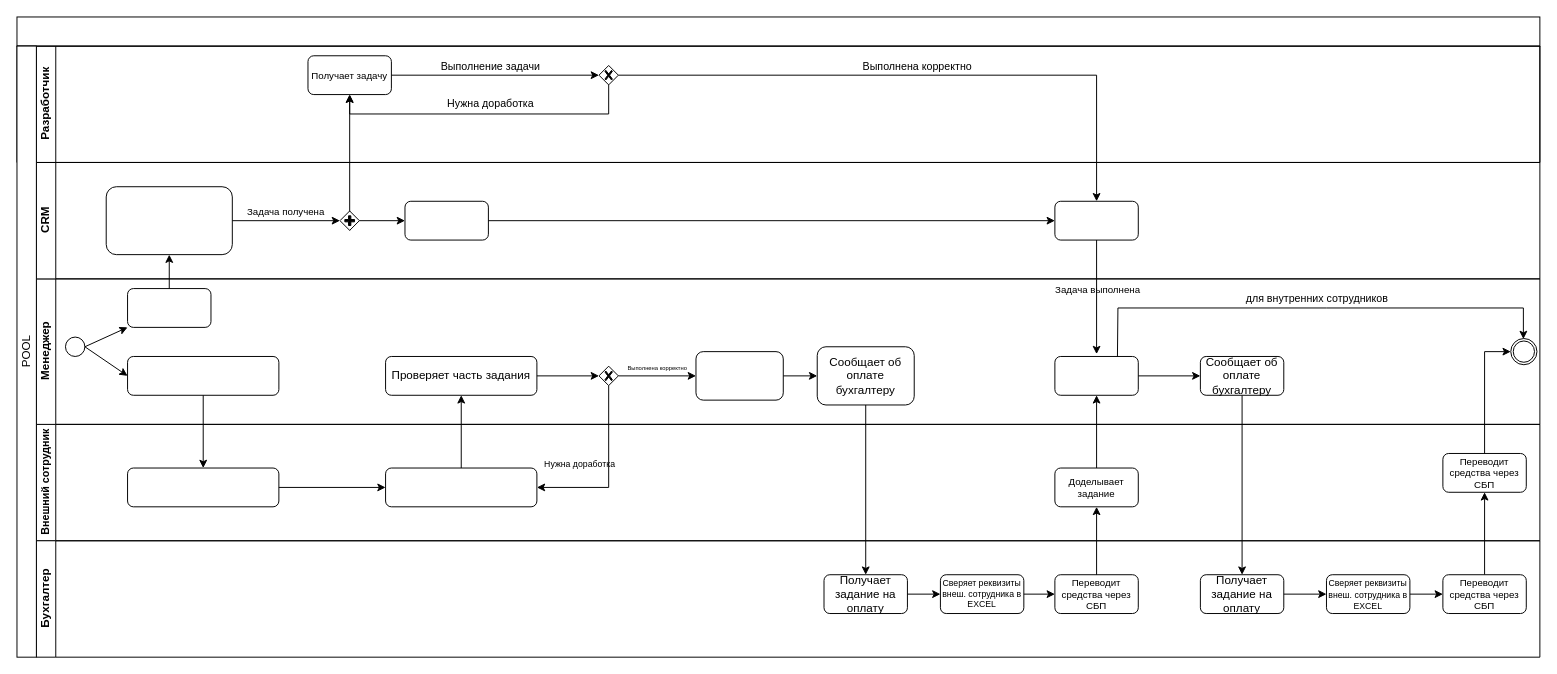
This 1557x674 diagram has some shape labels left out. Here are the shapes that lost their labels. From the top down, the centre of each, then its label:
point 778,31: AS-IS
point 168,220: ожидает подтверждения задачи разработчиком/бухгалтерам
point 446,220: обновляет статус задачи
point 1096,220: Отмечает выполнение задачи
point 169,307: создает задачу в CRM
point 203,375: создает задачу внешнего сотрудника
point 739,375: Утверждает корректное направление задания
point 1096,375: Подтверждает выполнение
point 203,487: Получает задание через мессенджер
point 461,487: отсылает часть задания на проверку
